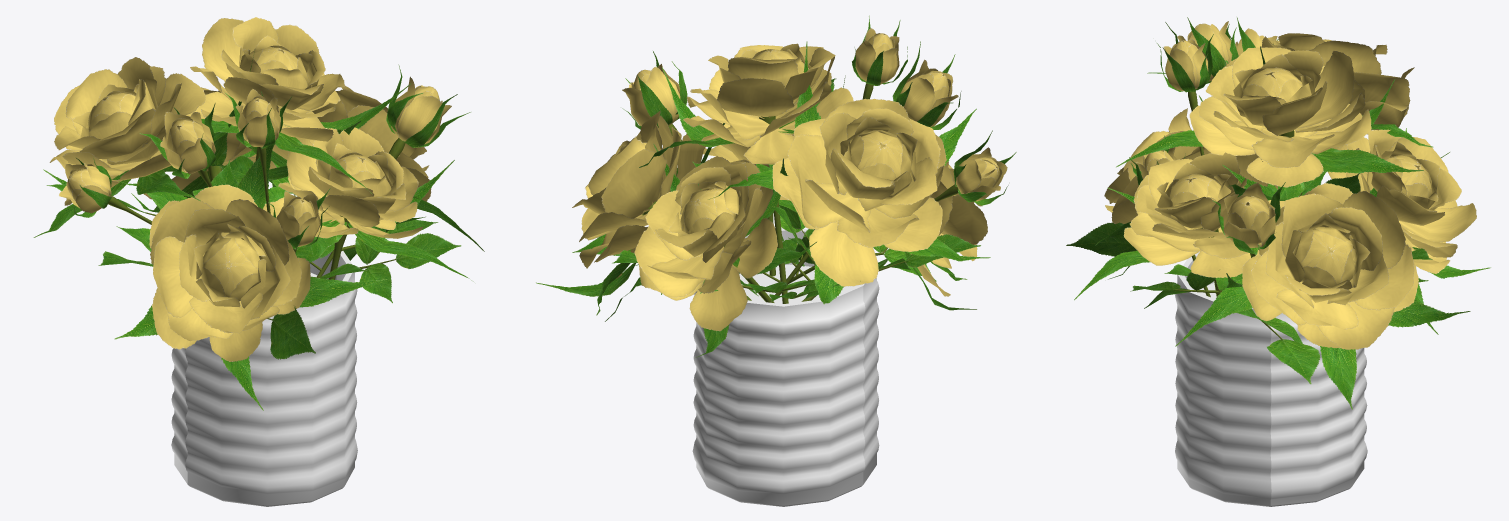
File: flowers.fbx
3 renders of one model, left to right at view 1: azimuth 30°, elevation 25°; view 2: azimuth 150°, elevation 25°; view 3: azimuth 270°, elevation 25°, orthographic. The views are drawn at different scales.
Parts seen in each view (by area): view 1: Mesh_1, Mesh_3, Mesh_0, Mesh_2; view 2: Mesh_1, Mesh_3, Mesh_0, Mesh_2; view 3: Mesh_1, Mesh_3, Mesh_0, Mesh_2.
Boxes of the visible parts, left/top/right/bottom form: Mesh_1: left=33, top=17, right=484, bottom=410; Mesh_3: left=171, top=251, right=357, bottom=506; Mesh_0: left=59, top=35, right=451, bottom=308; Mesh_2: left=108, top=138, right=405, bottom=320; Mesh_1: left=536, top=15, right=1016, bottom=357; Mesh_3: left=692, top=228, right=879, bottom=506; Mesh_0: left=616, top=28, right=1007, bottom=238; Mesh_2: left=642, top=83, right=958, bottom=303; Mesh_1: left=1066, top=17, right=1490, bottom=409; Mesh_3: left=1175, top=251, right=1367, bottom=506; Mesh_0: left=1117, top=21, right=1439, bottom=290; Mesh_2: left=1174, top=91, right=1305, bottom=339.
Size of the model in its own units: 240 by 222 by 212.
